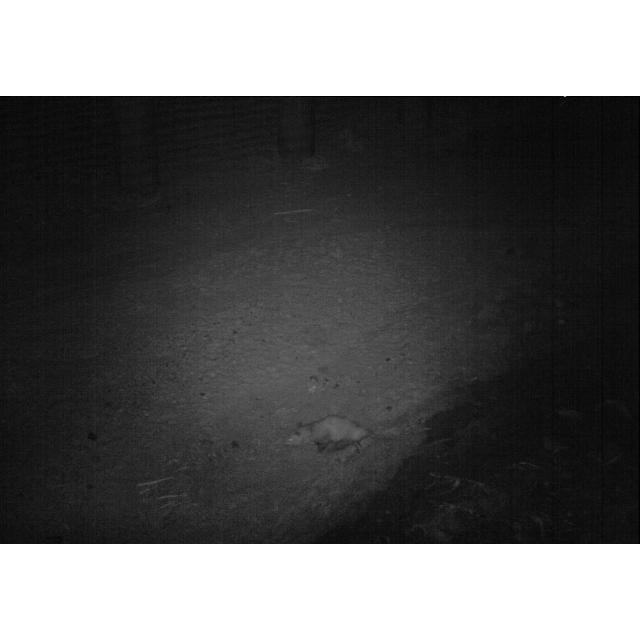animals: (286, 412, 382, 462)
